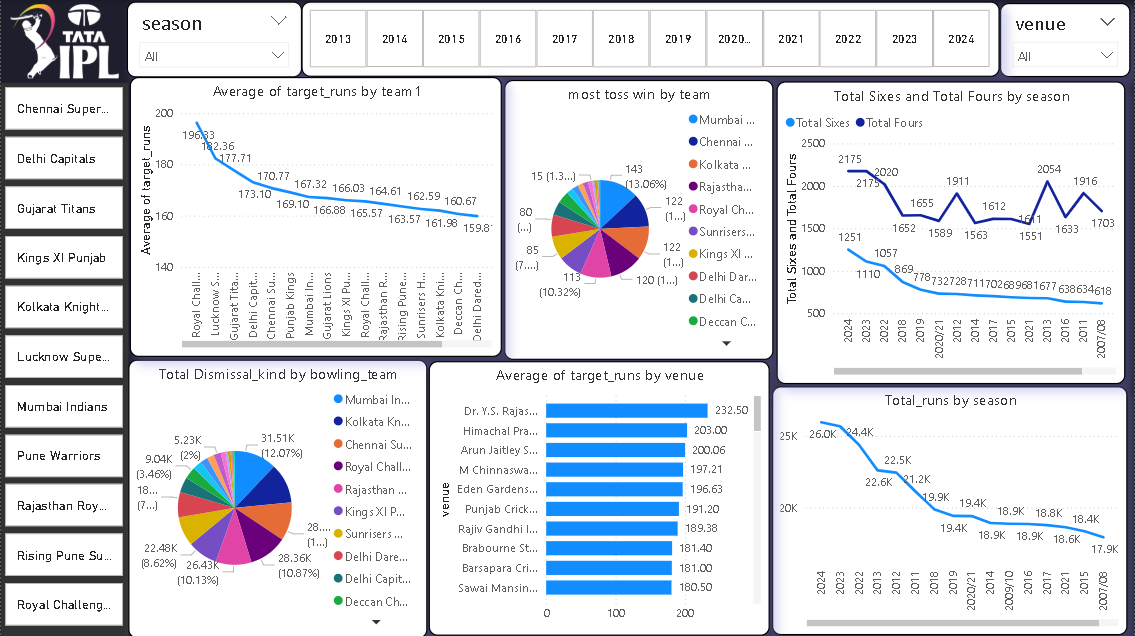

The dashboard page shown, as its layout file describes it:
{"tool":"powerbi","page":{"name":"Match Trends & Insights","canvas":[1280,720],"ordinal":3},"visuals":[{"type":"slicer","fields":{"Values":["matches.season"]},"box":[142.7,2,197.8,85.6],"z":0},{"type":"advancedSlicerVisual","fields":{"Values":["matches.team2"]},"box":[0,93.2,143.7,627.2],"z":1000},{"type":"slicer","fields":{"Values":["matches.venue"]},"box":[1128.3,3.9,147.6,83.5],"z":2000},{"type":"advancedSlicerVisual","fields":{"Values":["matches.season"]},"box":[339.8,1.9,788.4,85.4],"z":3000},{"type":"image","box":[0,0,143.7,93.2],"z":4000},{"type":"pieChart","title":"most toss win by team","fields":{"Category":["matches.toss_winner"],"Y":["matches.match_id"]},"box":[568.9,89.7,303.8,316],"z":5000},{"type":"pieChart","title":"Total Dismissal_kind by bowling_team","fields":{"Category":["deliveries.bowling_team"],"Y":["deliveries.dismissal_kind"]},"box":[143.7,405.9,337.9,314.6],"z":6000},{"type":"lineChart","title":" Total_runs by season","fields":{"Category":["matches.season"],"Y":["deliveries.total_runs"]},"box":[870.7,436.4,401.7,281.4],"z":7000},{"type":"lineChart","fields":{"Category":["matches.team1"],"Y":["matches.target_runs"]},"box":[144.8,87.7,420,316],"z":8000},{"type":"lineChart","fields":{"Category":["matches.season"],"Y":["deliveries.Total Sixes","deliveries.Total Fours"]},"box":[875.8,91.3,394.2,341.8],"z":10000},{"type":"clusteredBarChart","fields":{"Category":["matches.venue"],"Y":["matches.target_runs"]},"box":[483.3,407.8,385.4,309.9],"z":11000}]}

Visuals, with their boxes in screenshot pixels (x1, y1, x2, y2), scaled from the page's 1280x720 canvas onto the 1135x636 screenshot:
slicer - matches.season: [127, 2, 302, 77]
advancedSlicerVisual - matches.team2: [0, 82, 127, 635]
slicer - matches.venue: [1000, 3, 1131, 77]
advancedSlicerVisual - matches.season: [301, 2, 1000, 77]
image: [0, 0, 127, 82]
"most toss win by team" pieChart: [504, 79, 774, 358]
"Total Dismissal_kind by bowling_team" pieChart: [127, 359, 427, 635]
" Total_runs by season" lineChart: [772, 385, 1128, 634]
lineChart - matches.team1 x matches.target_runs: [128, 77, 501, 357]
lineChart - matches.season x deliveries.Total Sixes: [777, 81, 1126, 383]
clusteredBarChart - matches.venue x matches.target_runs: [429, 360, 770, 634]
